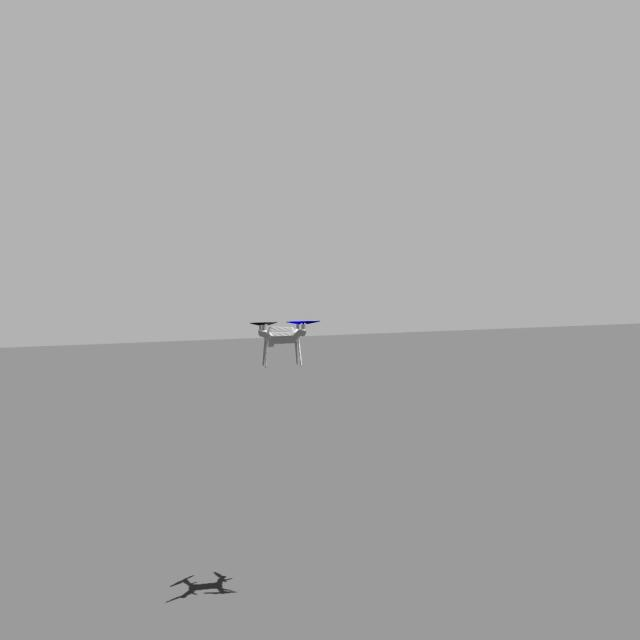Drone: (249, 308, 320, 369)
